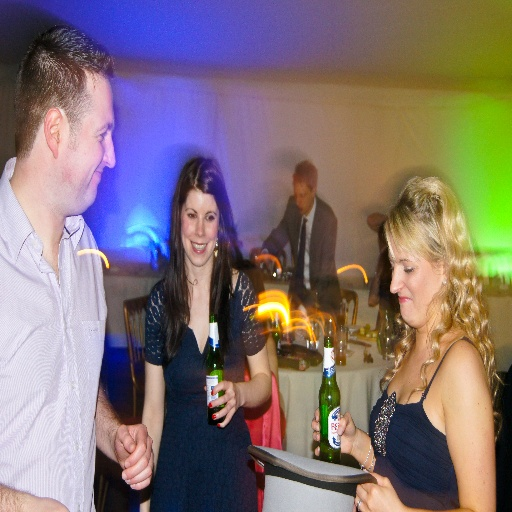hand: (101, 410, 153, 488), (310, 404, 356, 460), (351, 467, 404, 511), (203, 379, 241, 430), (31, 495, 69, 511), (248, 253, 271, 269), (308, 287, 319, 305)
